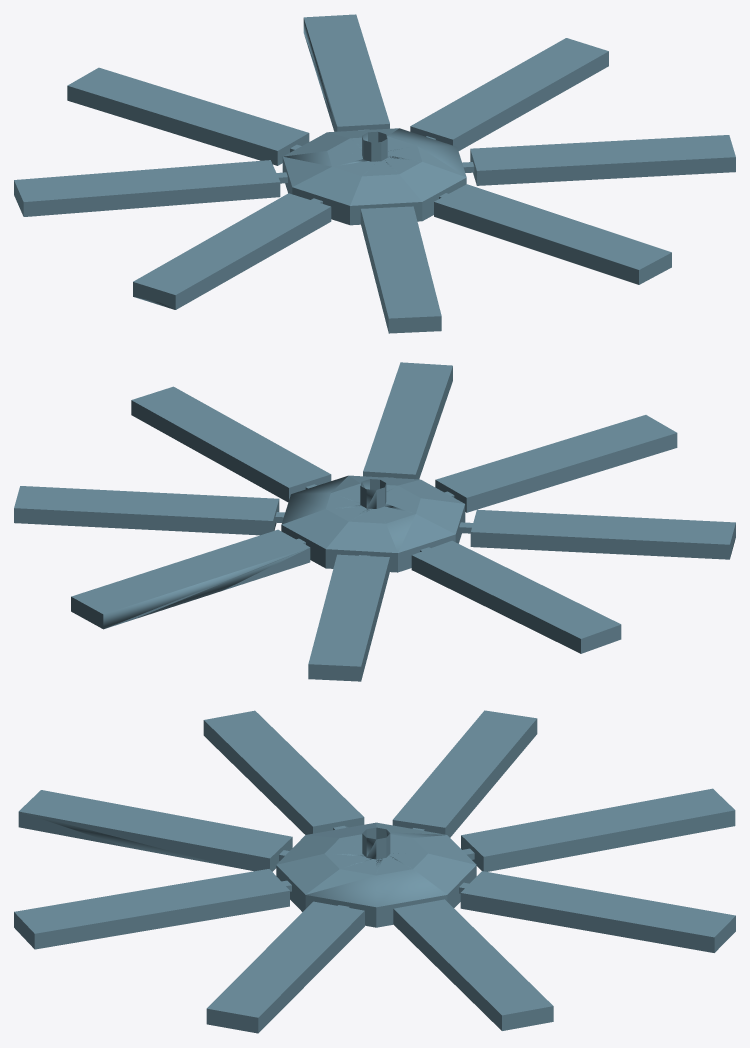
The model's file is ceiling_fan2.glb.
The picture shows the model from 3 angles, top to bottom: view 1: azimuth 30°, elevation 25°; view 2: azimuth 150°, elevation 25°; view 3: azimuth 270°, elevation 25°; orthographic projection. The views are drawn at different scales.
Parts seen in each view (by area): view 1: ceiling_fan.001; view 2: ceiling_fan.001; view 3: ceiling_fan.001.
Boxes of the visible parts, x1,y1,x2,y2 form: ceiling_fan.001: (14,14,735,333); ceiling_fan.001: (14,362,735,681); ceiling_fan.001: (14,710,735,1033).
Bounding box in the file's own units: 3.4 × 0.3076 × 3.38.
